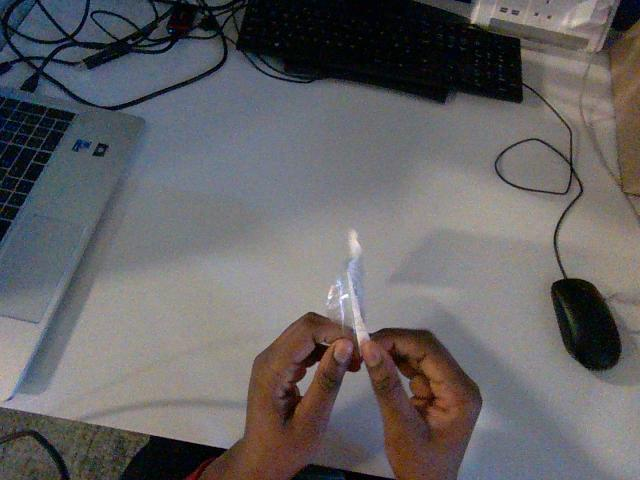syringe: (327, 230, 368, 347)
